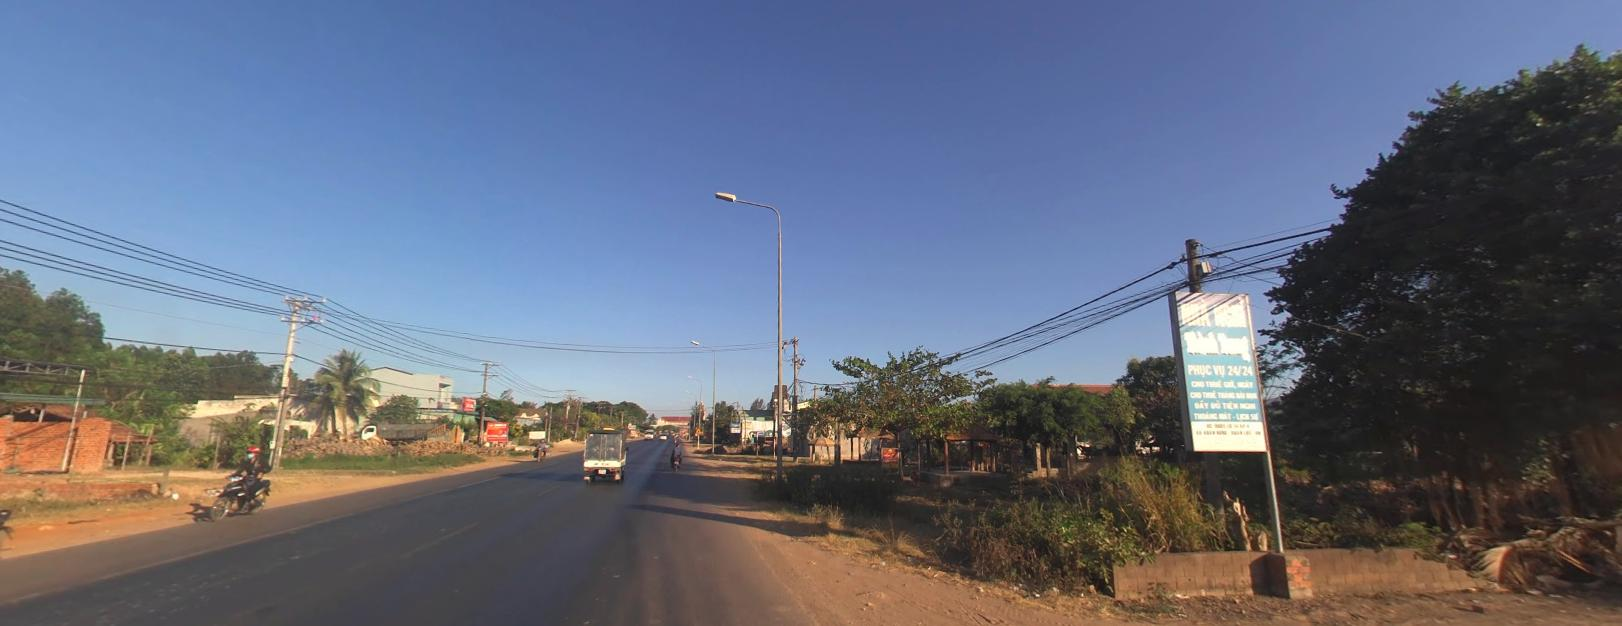Nguy hiem: (695, 426, 702, 433)
